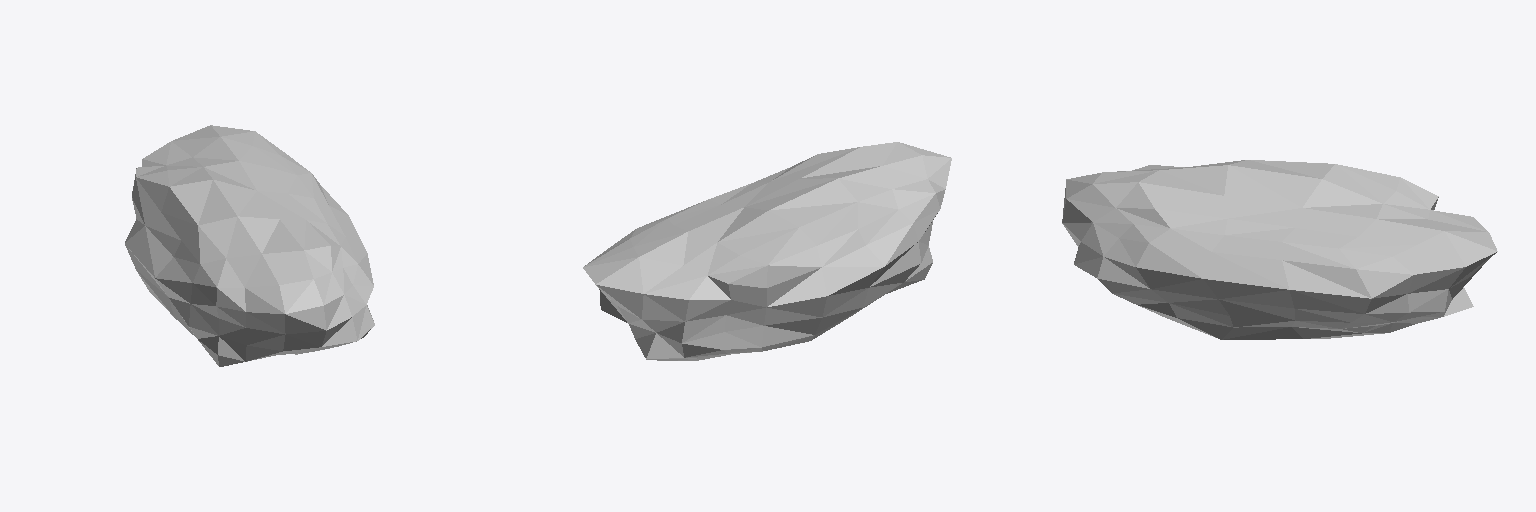
Rendered from rock9.obj.
3 renders of one model, left to right at view 1: azimuth 30°, elevation 25°; view 2: azimuth 150°, elevation 25°; view 3: azimuth 270°, elevation 25°, orthographic.
Visible parts, largest first — view 1: Mesh; view 2: Mesh; view 3: Mesh.
Boxes of the visible parts, box(x1,y1,x2,y2) form: Mesh: box(125, 125, 374, 366); Mesh: box(583, 142, 951, 360); Mesh: box(1062, 160, 1497, 339).
Size of the model in its own units: 2.83 by 1.7 by 4.85.